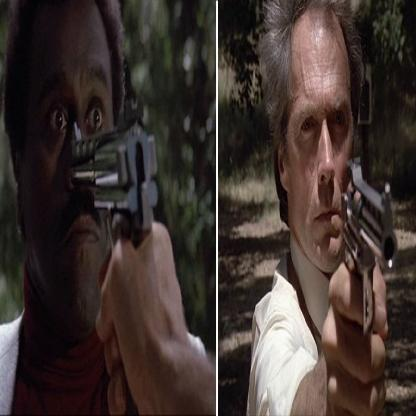gun: (65, 102, 159, 244), (340, 156, 410, 321)
